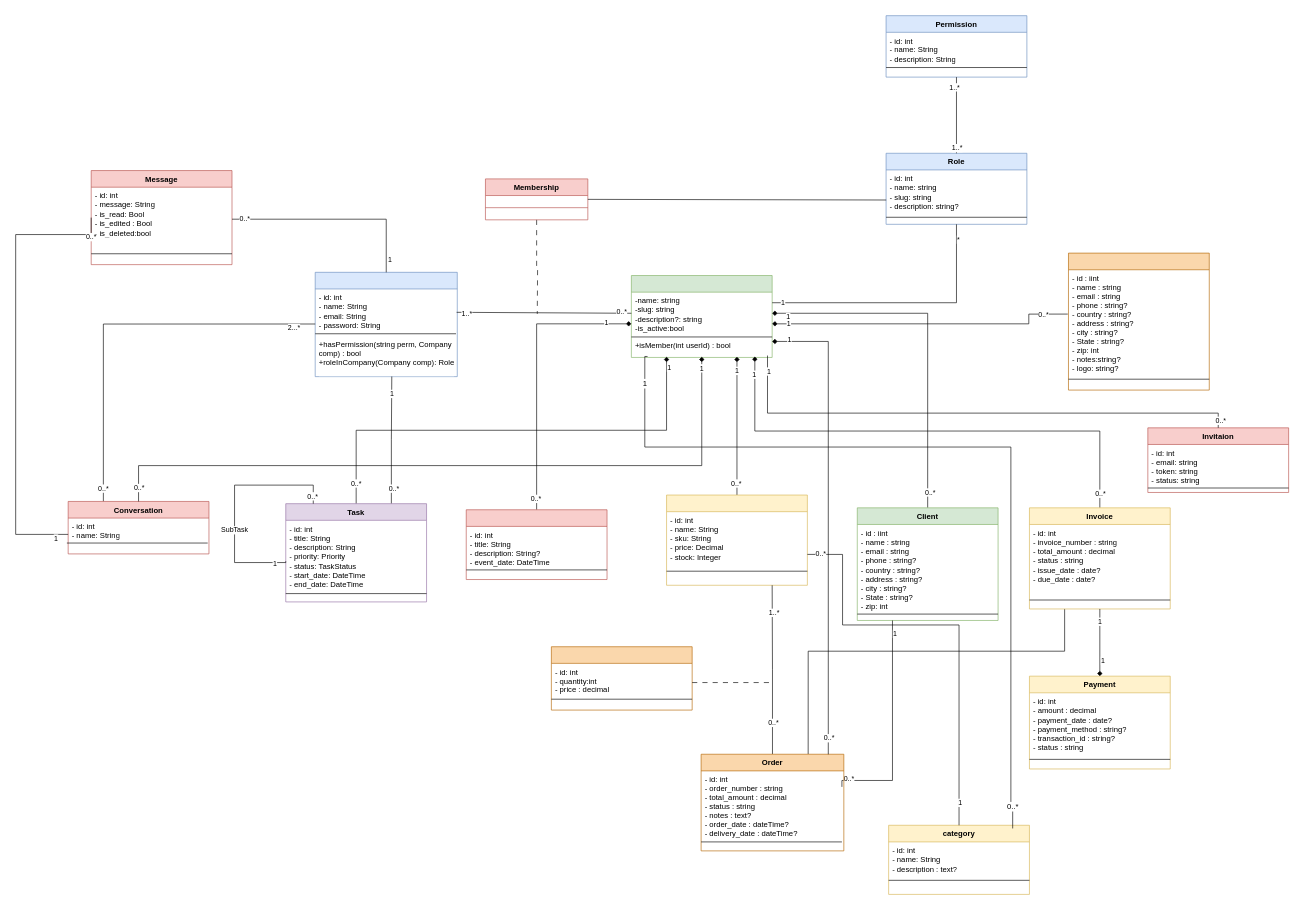
Image size: 1300x906. Some labels were removed from this diagram. The box of each missing label's shape, as (x1, y1, x2, y2) in pixels:
CalendarEvent: (466, 509, 607, 580)
Company: (631, 275, 772, 357)
OrderItem: (551, 646, 692, 710)
Product: (666, 494, 807, 585)
Supplier: (1068, 252, 1209, 390)
User: (315, 272, 457, 377)
